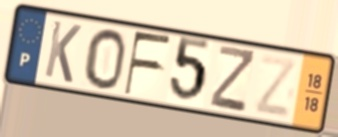5: (167, 35, 213, 109)
F: (122, 30, 174, 98)
K: (42, 18, 84, 86)
O: (83, 26, 128, 92)
Z: (207, 43, 258, 116), (252, 52, 300, 122)
